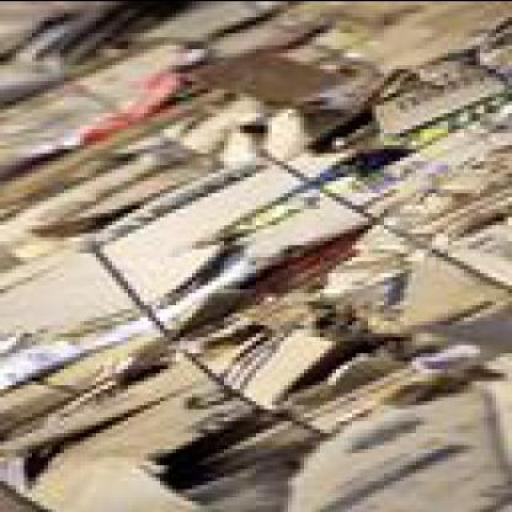cardboard: (0, 2, 510, 508), (84, 148, 508, 432), (256, 12, 508, 284), (0, 240, 244, 508), (116, 1, 508, 100), (292, 352, 508, 508), (0, 40, 192, 188), (0, 115, 188, 240), (0, 1, 113, 80)
